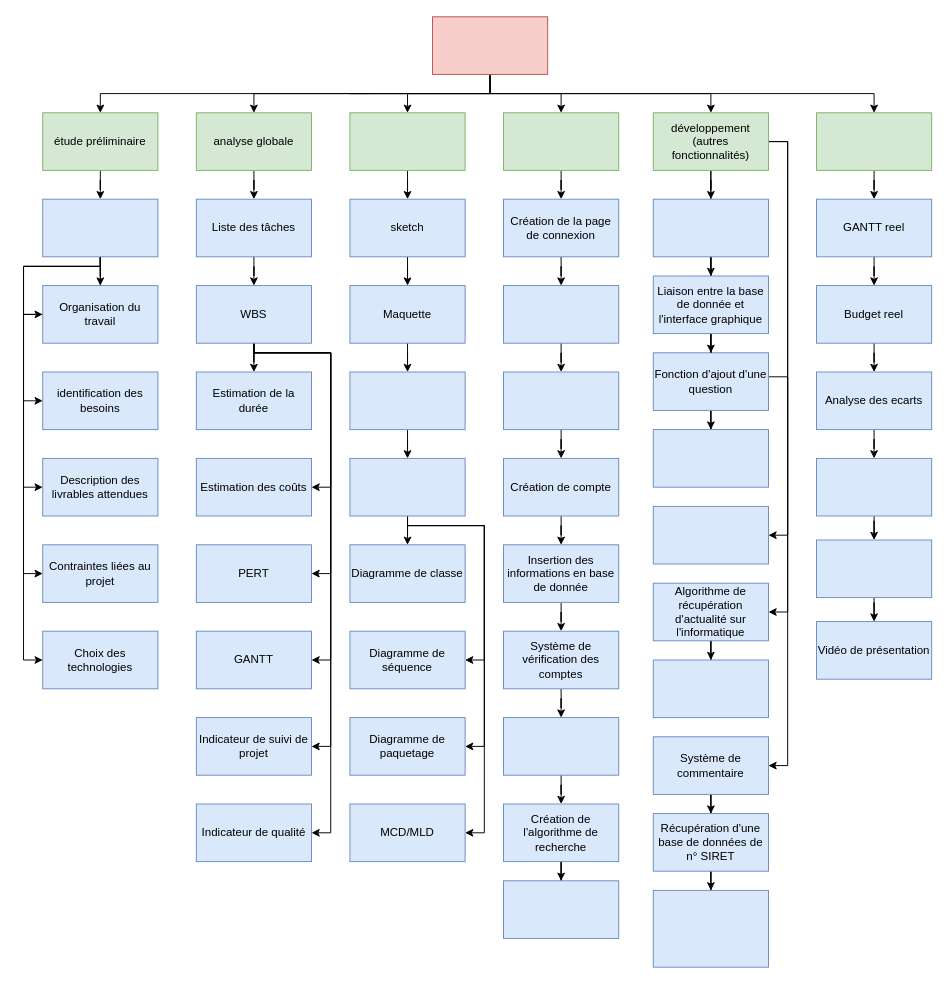
This 948x984 diagram has some shape labels left out. The shapes that lost their labels are listed below. From the top down, each one's centre as x and y in pixels, then its label:
At (x=490, y=45): "Application".
At (x=407, y=141): "Documentation".
At (x=561, y=141): "développement (système de compte + système de messagerie)".
At (x=874, y=141): "Bilan".
At (x=100, y=227): "choix du projet".
At (x=710, y=227): "Création de la page FAQ".
At (x=561, y=314): "Création de la page accueil".
At (x=407, y=400): "Scenarii".
At (x=561, y=400): "Création des tables".
At (x=710, y=458): "Fonction de vérification de duplication de question".
At (x=407, y=486): "Diagramme de cas d'uilisation".
At (x=874, y=486): "Analyse qualité projet".
At (x=710, y=534): "Liaison entre la base de donnée et l'interface graphique de follow".
At (x=874, y=568): "Axe d'amélioration".
At (x=710, y=688): "Liaison du visuel de l'application avec les publications trouvées".
At (x=561, y=746): "Système de messagerie (A developper)".
At (x=561, y=909): "Liaison de l'algorithme avec l'interface graphique".
At (x=710, y=928): "Vérification de l'existence du n° de SIRET lors de la création du compte pro".
